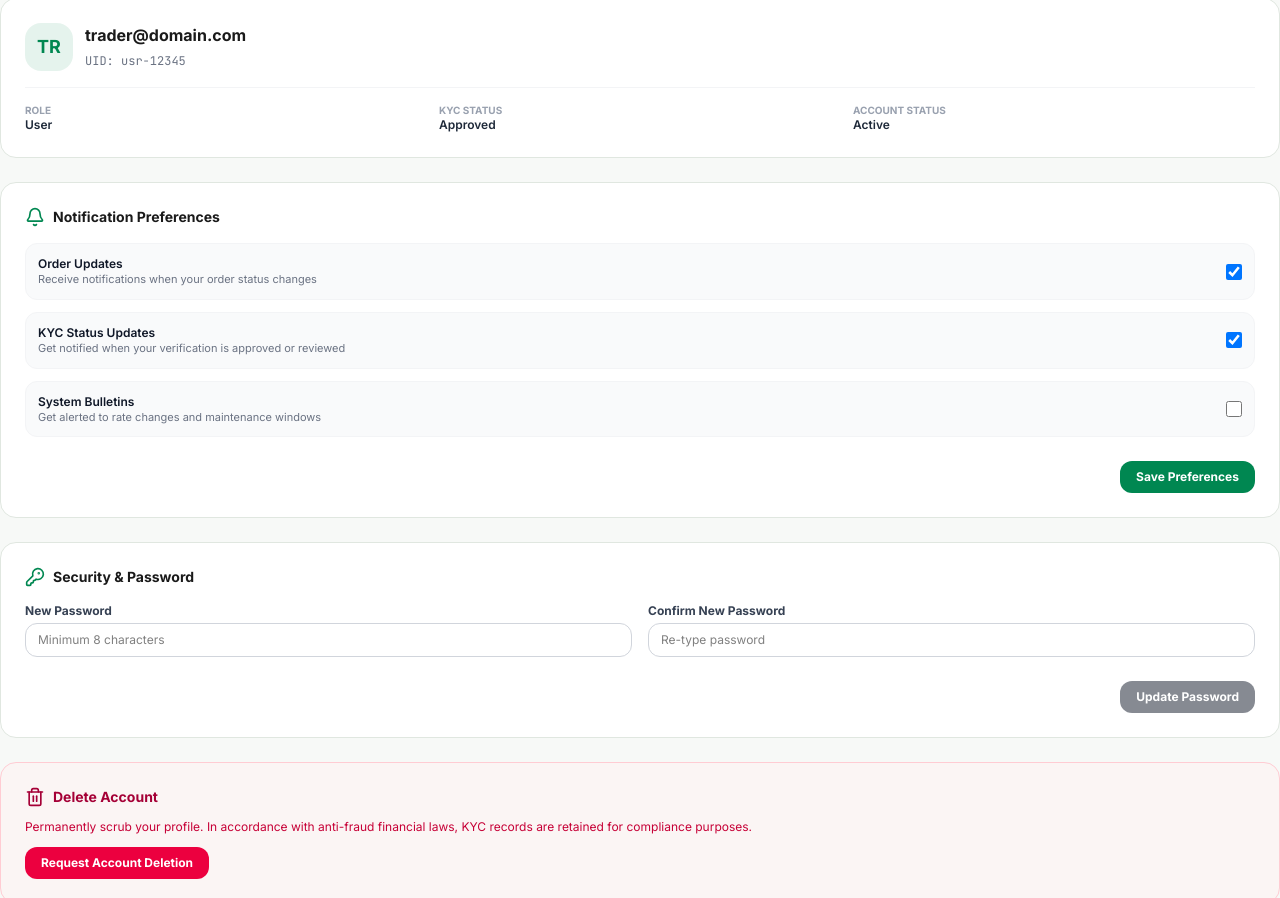
Scenario: ProfileTab (User Dashboard) › shows confirmation when Request Account Deletion is clicked
The width and height of the screenshot is (1280, 898).
Click the button "Request Account Deletion".
click(117, 863)  # box [25,847,209,879]
(page scrolled)
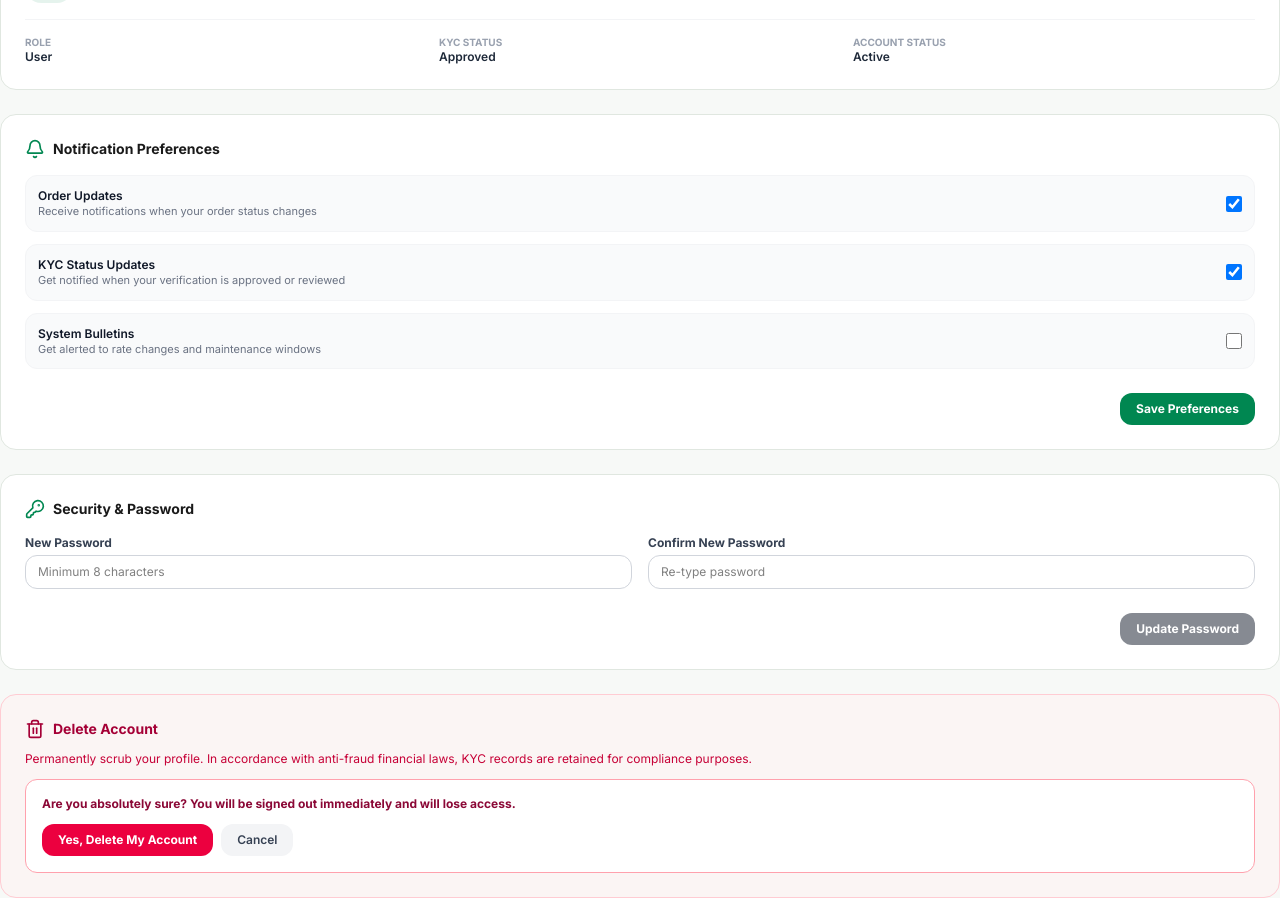
Check: the text "Are you absolutely sure" is shown, box [42,796,516,811]
Check: the button "Yes, Delete My Account" is shown, box [42,824,213,856]
